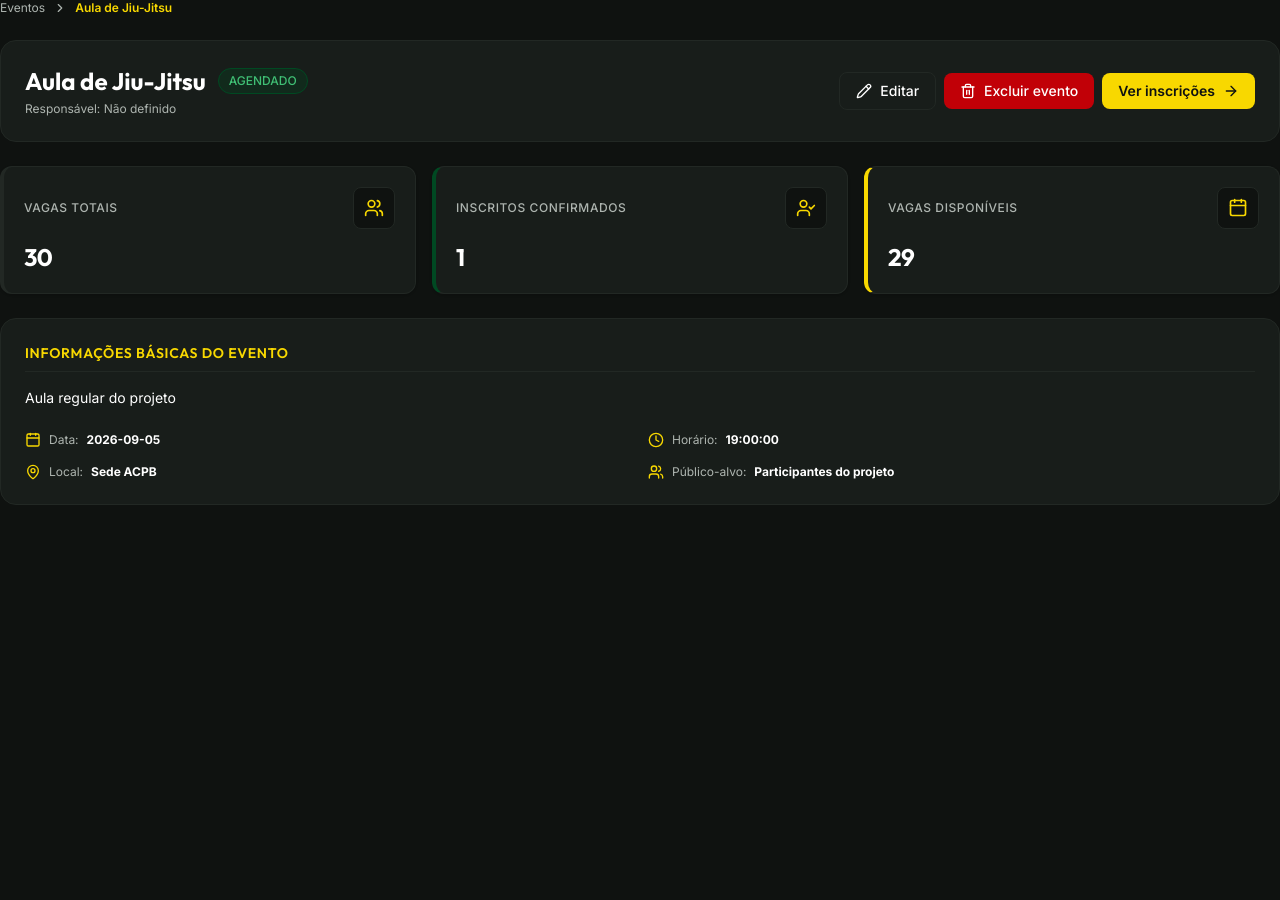
Test: EventDetails › oferece a exclusão para quem pode editar eventos
What coordinates should you click on to do the following:
click the button "Excluir evento"
I would click on:
 (1019, 91)
Its box is x1=944 y1=73 x2=1094 y2=109.
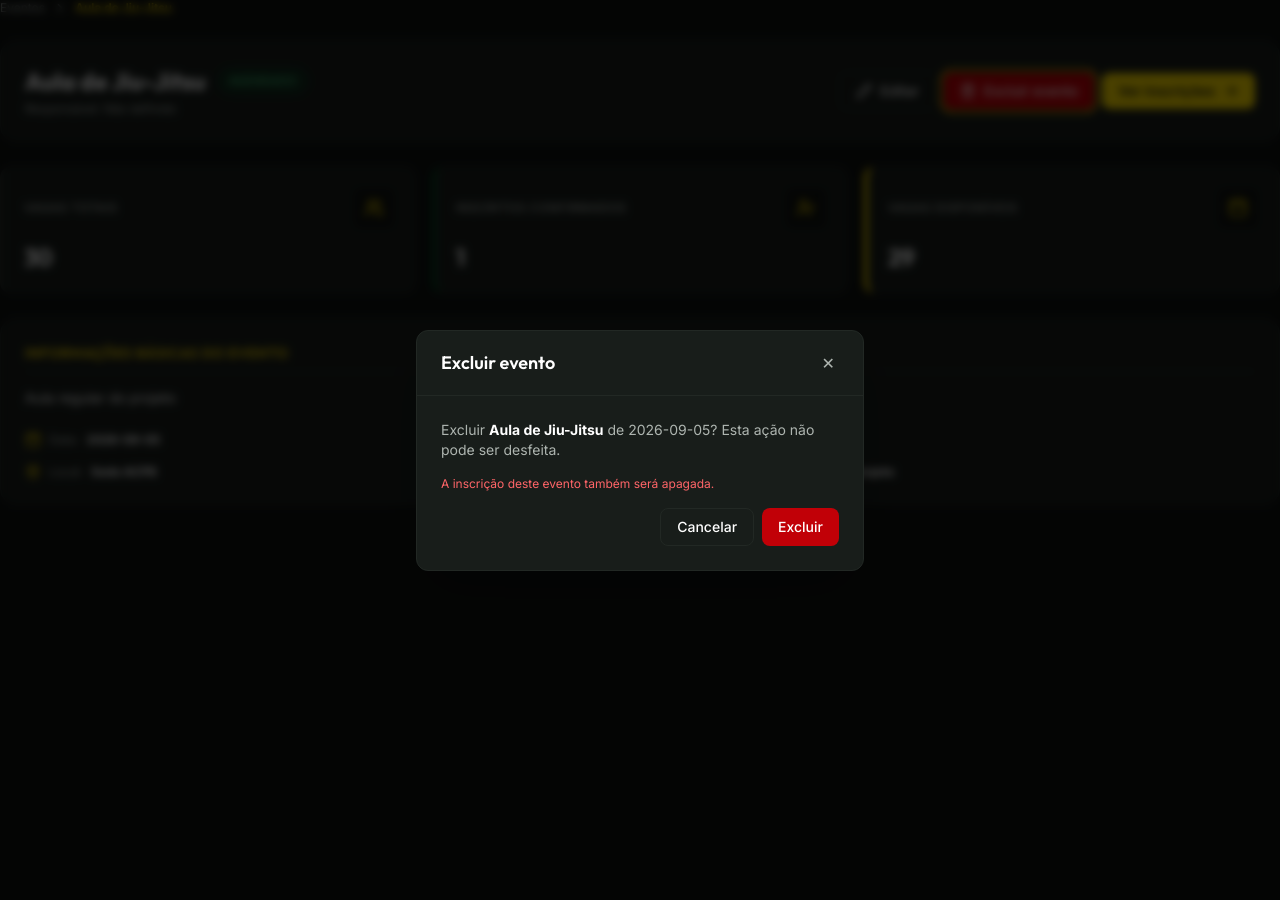
Result: the text "A inscrição deste evento também será apagada." is shown at x1=441 y1=476 x2=714 y2=490
